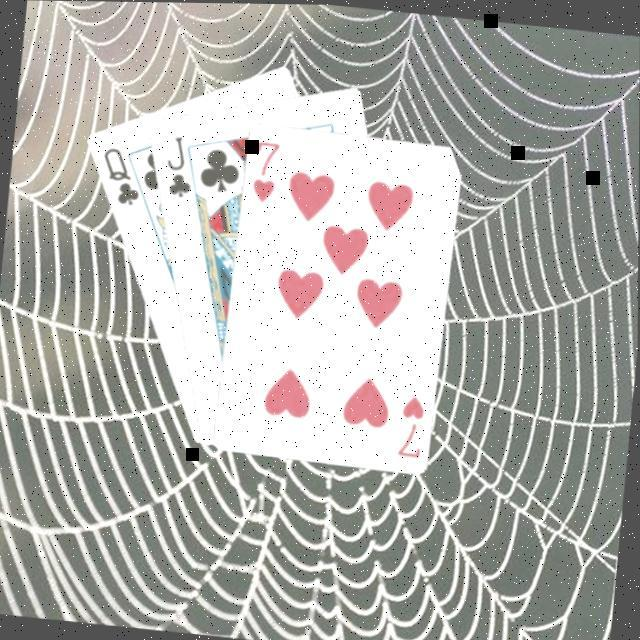7H: (246, 134, 282, 204), (392, 388, 428, 458)
JC: (157, 128, 197, 199)
QC: (93, 141, 144, 208)
